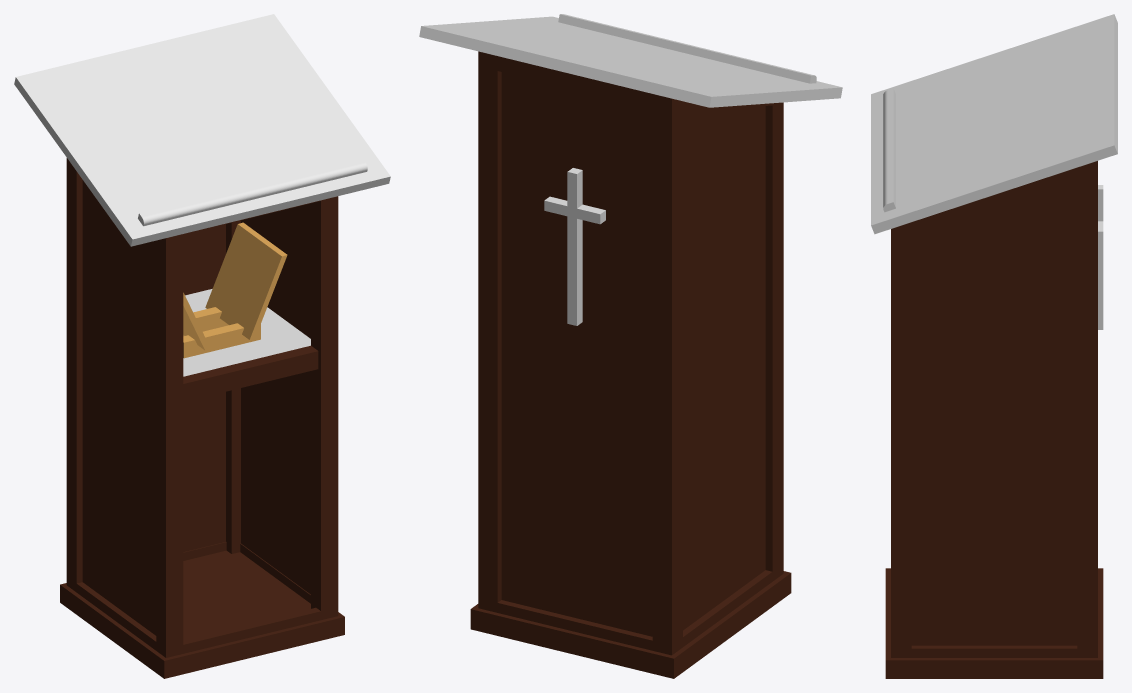
File: simplepulpit.fbx
3 renders of one model, left to right at view 1: azimuth 30°, elevation 25°; view 2: azimuth 150°, elevation 25°; view 3: azimuth 270°, elevation 25°, orthographic. The views are drawn at different scales.
Parts seen in each view (by area): view 1: Cube.001, wall2, wall4, sideframe3, sideframe2, wall1, Cube, sideframe4, Cube_Cube.001, Cube.005, Cube.002, bottomframe1 (+8 smaller); view 2: wall1, wall2, sideframe4, Cube.001, sideframe1, sideframe3, bottomframe3, bottomframe2, topframe3, topframe3.001, Cube.006, Cube.003 (+2 smaller); view 3: wall4, Cube.001, sideframe1, sideframe2, bottomframe4, topframe3.002, Cube.006, Cube.003, bottomframe1, bottomframe3.
Boxes of the visible parts, <box> form: Cube.001: <box>14,14,390,246</box>; wall2: <box>82,180,156,635</box>; wall4: <box>241,203,310,594</box>; sideframe3: <box>156,234,183,657</box>; sideframe2: <box>311,196,338,620</box>; wall1: <box>183,224,225,551</box>; Cube: <box>183,550,310,639</box>; sideframe4: <box>66,158,82,592</box>; Cube_Cube.001: <box>205,222,287,339</box>; Cube.005: <box>183,345,318,401</box>; Cube.002: <box>183,289,310,376</box>; bottomframe1: <box>166,616,340,677</box>; wall1: <box>501,72,652,636</box>; wall2: <box>683,106,765,630</box>; sideframe4: <box>652,94,682,655</box>; Cube.001: <box>419,16,842,107</box>; sideframe1: <box>478,51,501,610</box>; sideframe3: <box>765,102,783,573</box>; bottomframe3: <box>475,608,668,677</box>; bottomframe2: <box>655,571,791,678</box>; topframe3: <box>479,51,670,113</box>; topframe3.001: <box>479,598,670,655</box>; Cube.006: <box>558,14,816,83</box>; Cube.003: <box>567,168,582,325</box>; wall4: <box>911,167,1077,645</box>; Cube.001: <box>871,14,1117,234</box>; sideframe1: <box>1077,161,1097,657</box>; sideframe2: <box>891,222,911,657</box>; bottomframe4: <box>885,651,1103,678</box>; topframe3.002: <box>892,645,1096,657</box>; Cube.006: <box>883,88,895,212</box>; Cube.003: <box>1098,185,1103,329</box>; bottomframe1: <box>885,570,890,657</box>; bottomframe3: <box>1098,570,1103,657</box>.
Size of the model in its own units: 180 by 354 by 143.
